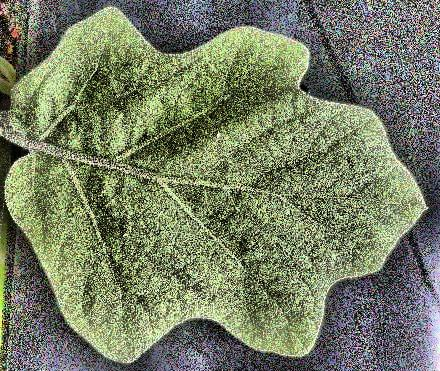HEALTHY: (0, 1, 440, 371)
